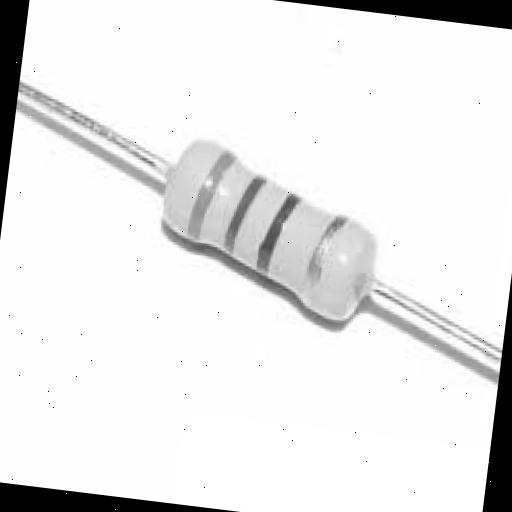RESISTOR: (38, 102, 449, 394)
